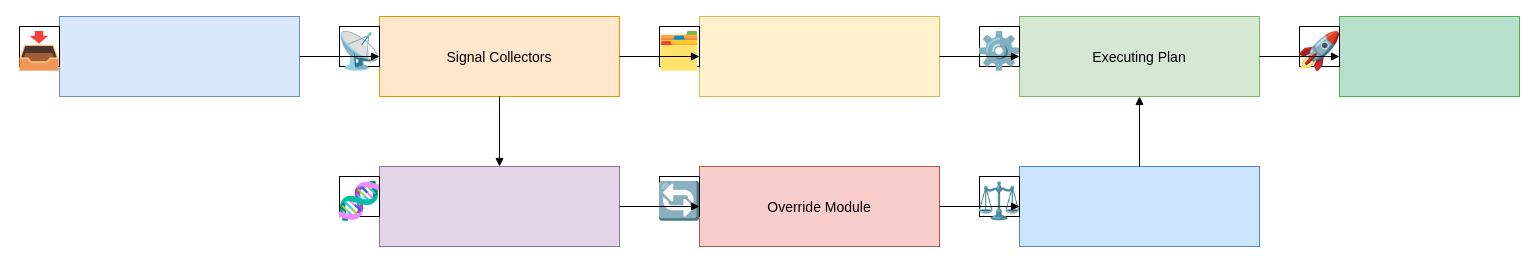
The diagram is 1536 pixels wide and 263 high, and some of its shapes have lost their labels. Here are the shapes that lost their labels. From the top down, the box of each, then its label:
(58, 16, 300, 96): ETE Request Intake
(698, 16, 940, 96): Slot Indexer
(1338, 16, 1520, 96): Executor
(378, 166, 620, 246): Marker Synthesizer
(1018, 166, 1260, 246): Drift & Conflict Manager
